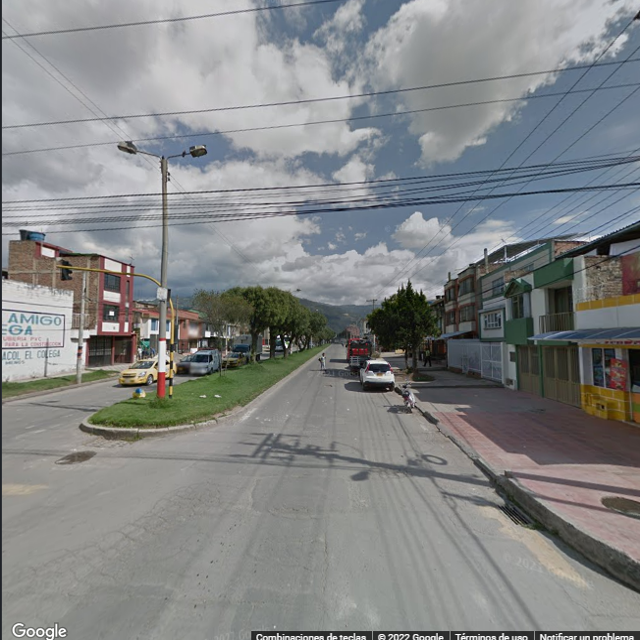D00: (322, 523, 331, 634)
D20: (21, 484, 219, 588)
